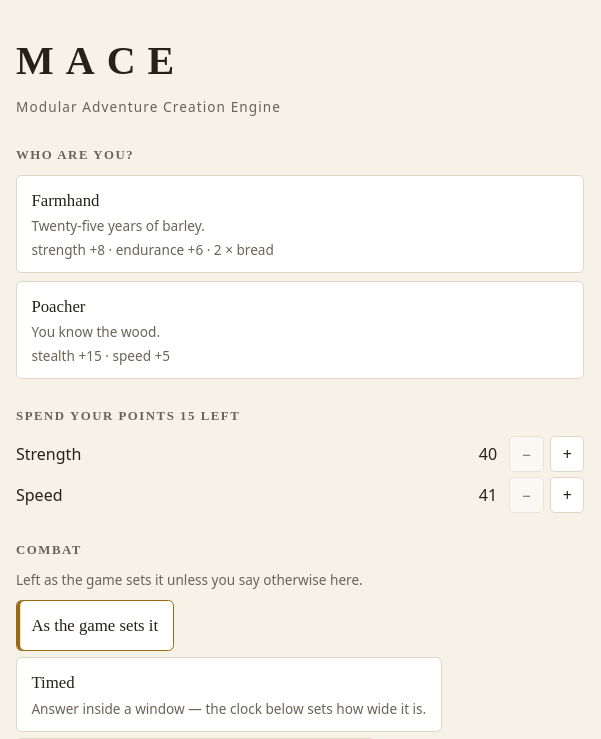
Scenario: the opening › will not begin until the question is answered
Expected: the button "Farmhand" is shown, [16, 175, 584, 273]
Click the button "Poacher You know the wood. stealth +15 · speed +5" at point(58, 306), box [16, 281, 584, 379]
(page scrolled)
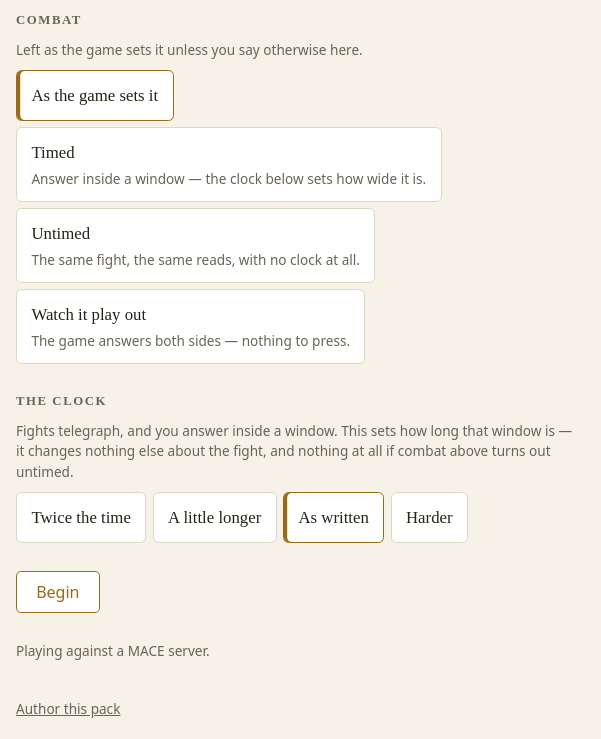
Expected: the button "Begin" is enabled, [16, 571, 100, 613]
